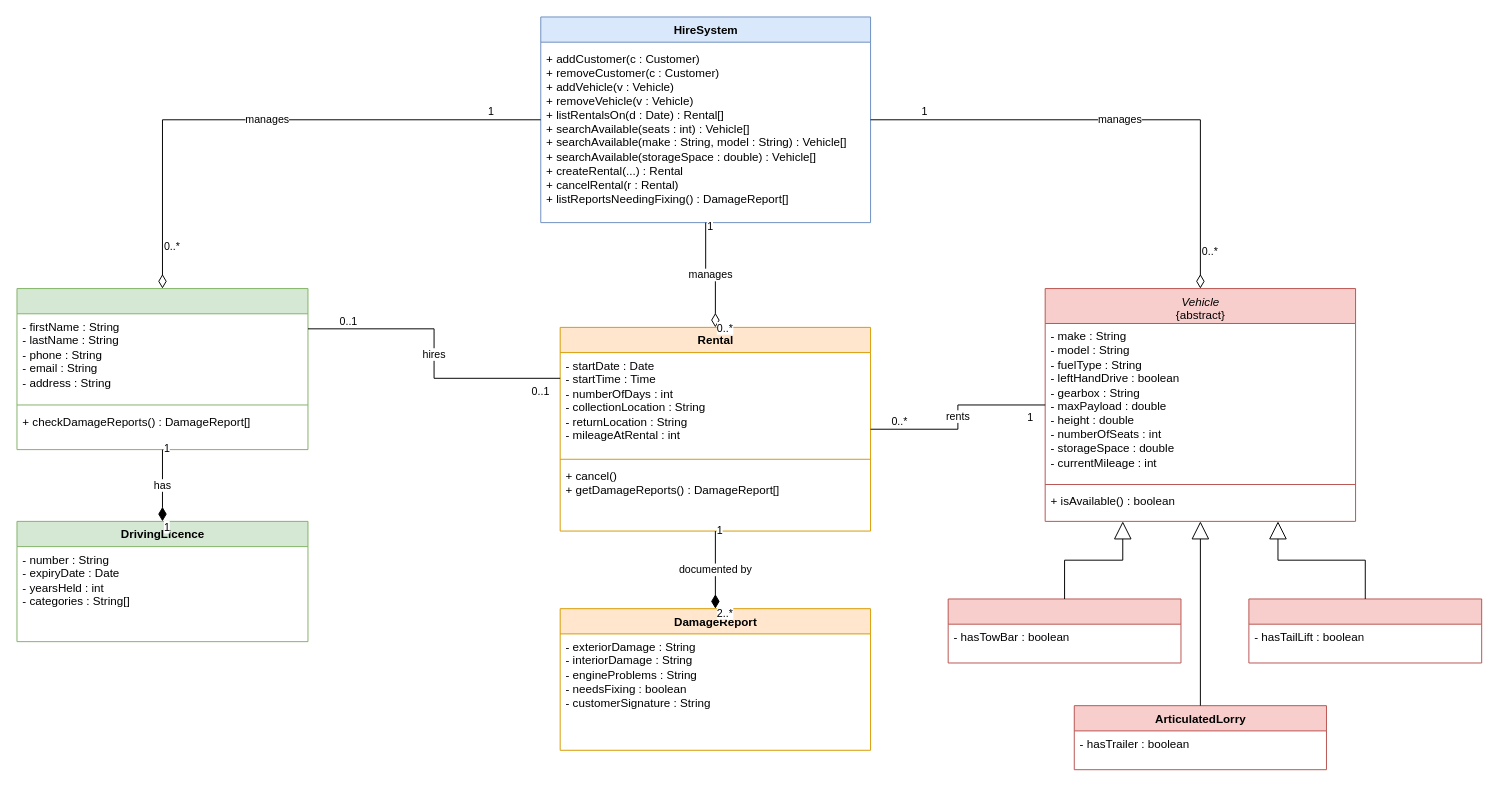
Some shapes in this 1499 by 790 pixel diagram are drawn without their labels. The shapes that lost their labels are listed below. From the top down, each one's box as (x1, y1, x2, y2) in pixels, then its label:
(16, 288, 308, 450): Customer
(947, 598, 1181, 663): StandardVan
(1248, 598, 1482, 663): LutonVan
